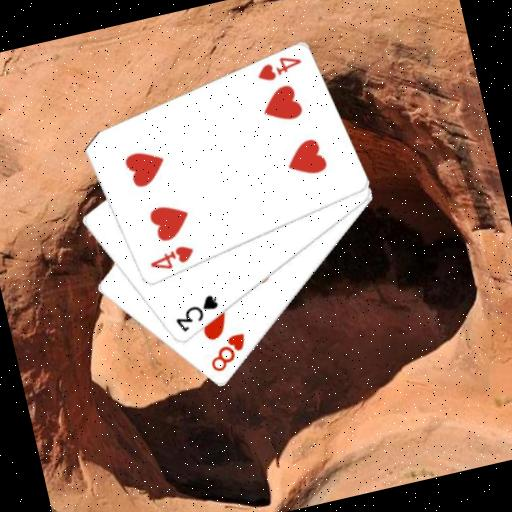3S: (168, 290, 225, 336)
4H: (252, 50, 306, 86), (145, 241, 198, 276)
8H: (201, 329, 254, 377)
